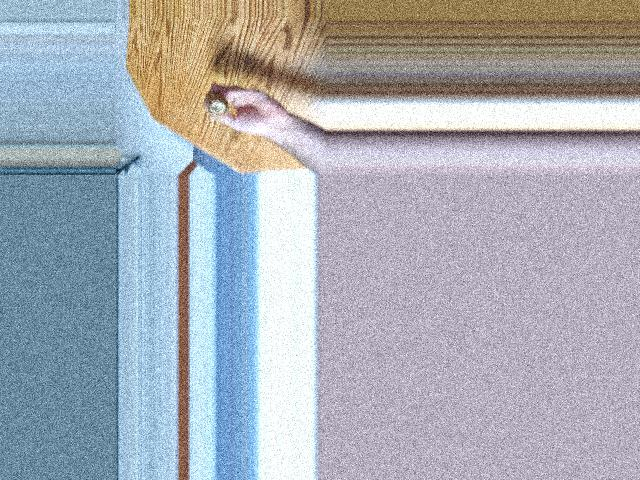sweet_potato: (199, 97, 227, 120)
